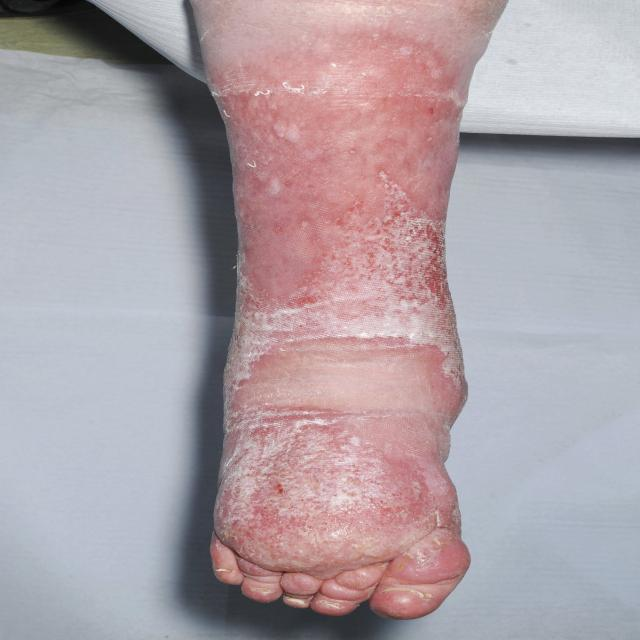wound: (187, 0, 508, 620)
